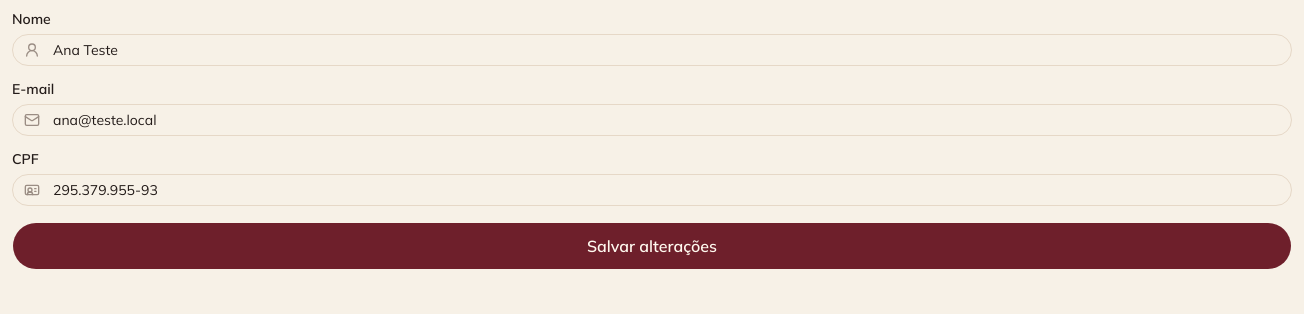
Scenario: ProfileForm › shows a validation error when the email is invalid
Replace the text in the field labelled "E-mail" with "not-an-email". click: [652, 120]
box: [12,104,1292,136]
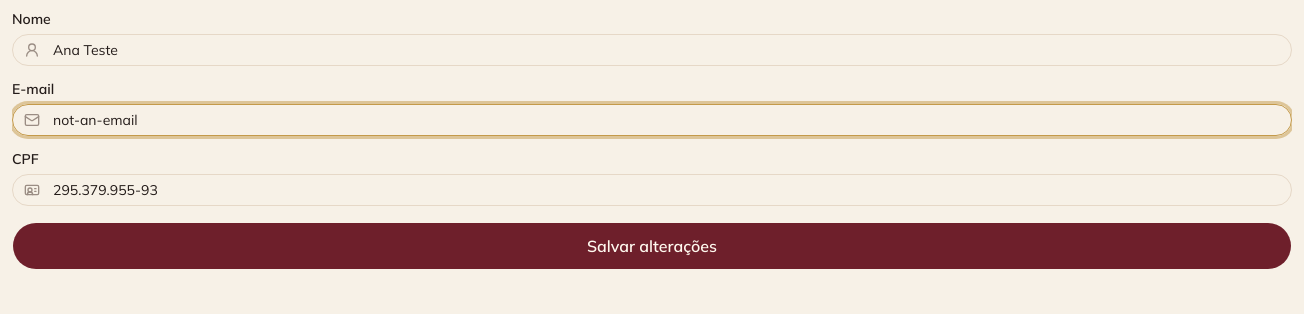
Click the button "Salvar alterações". click: [652, 246]
box: [12,222,1292,270]
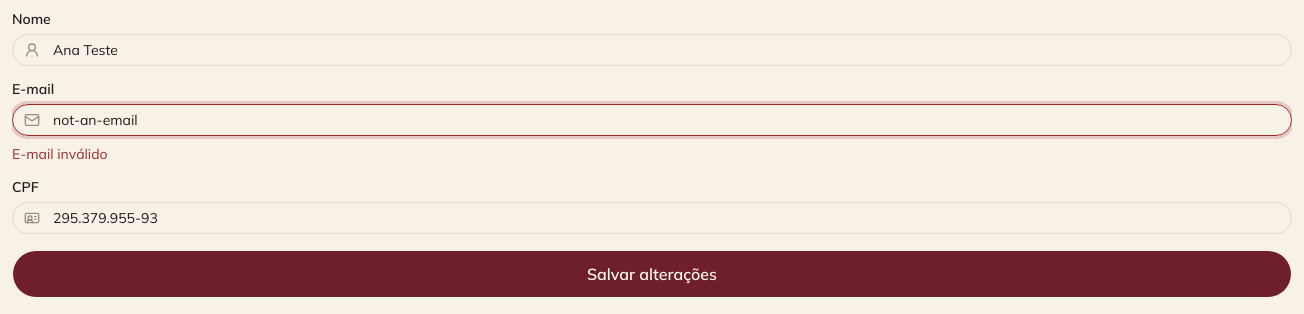
Now the text "E-mail inválido" is shown, box [12,145,108,163]
